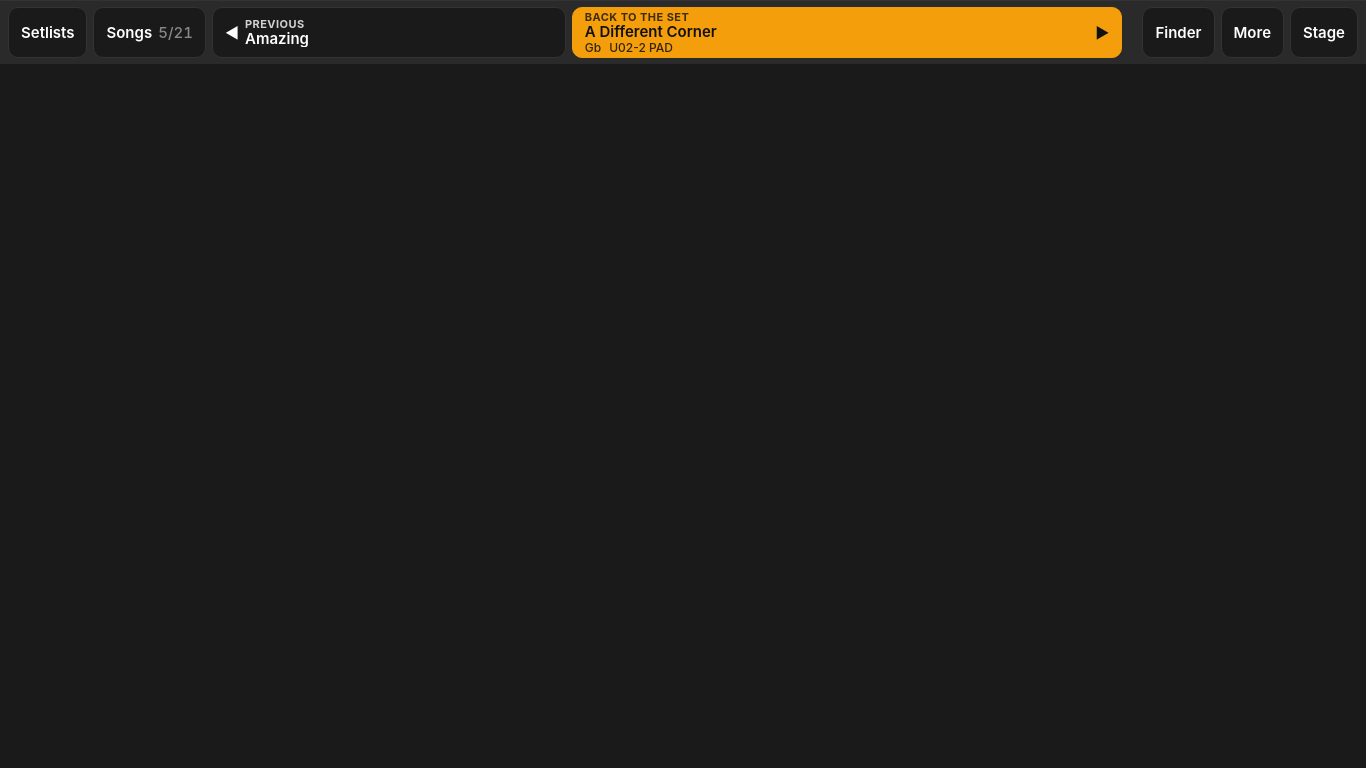
the Songs sheet › during an extra marks the song the player left, and nothing as playing
The image size is (1366, 768).
Click the button with aria-label "Songs, " at (150, 32), box top-left (94, 7), bottom-right (206, 58)
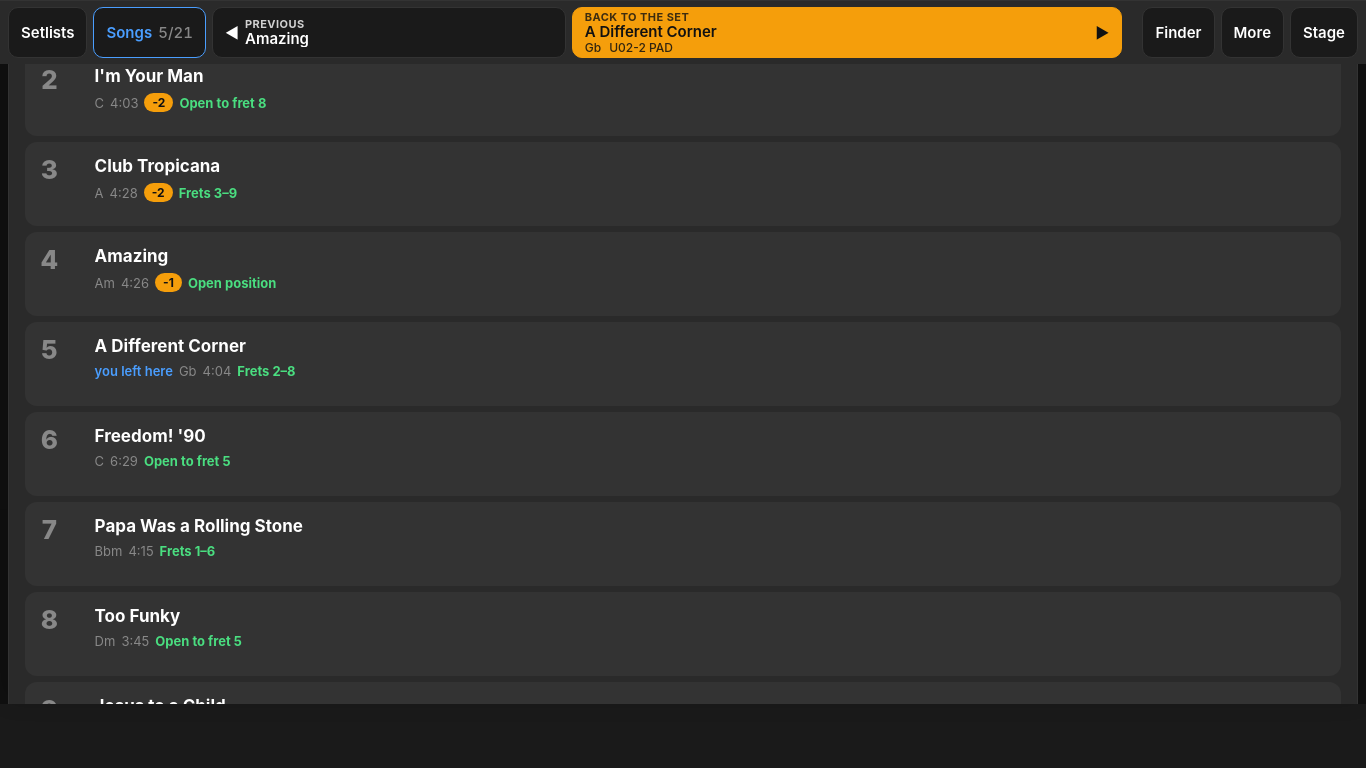
Now the text "you left here" is shown, box top-left (95, 363), bottom-right (173, 379)
